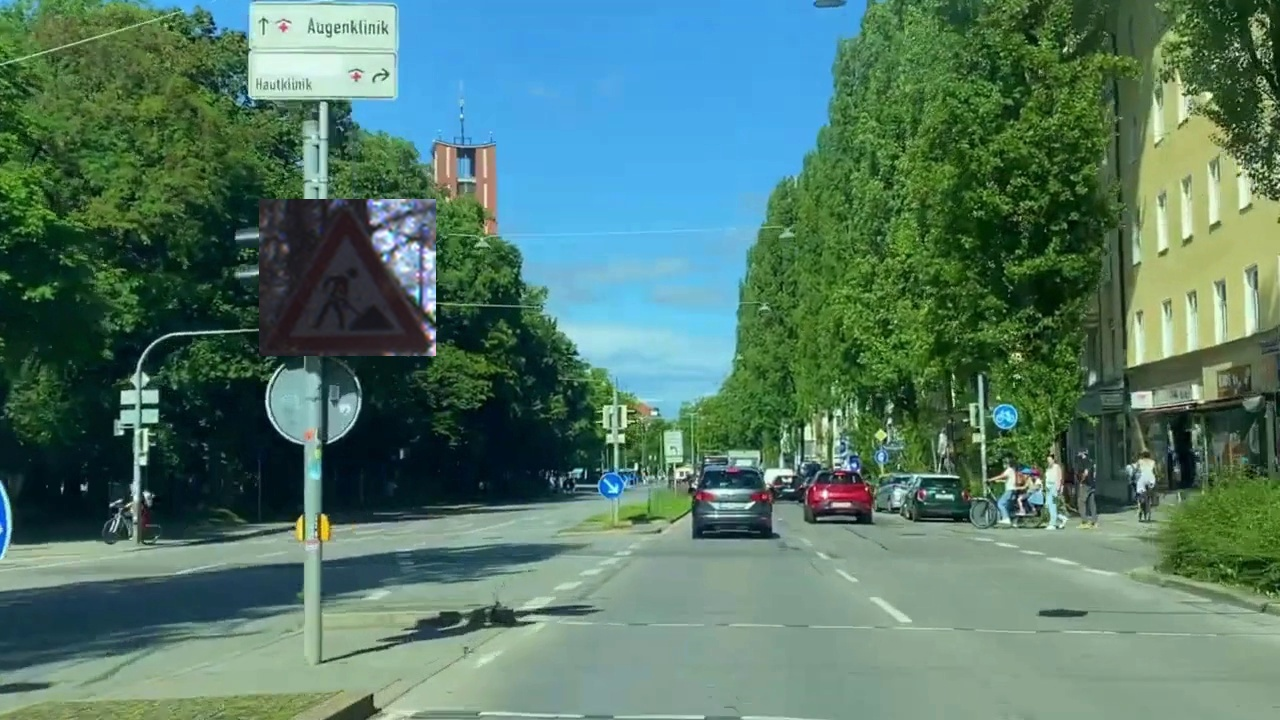Road work: (259, 199, 436, 356)
